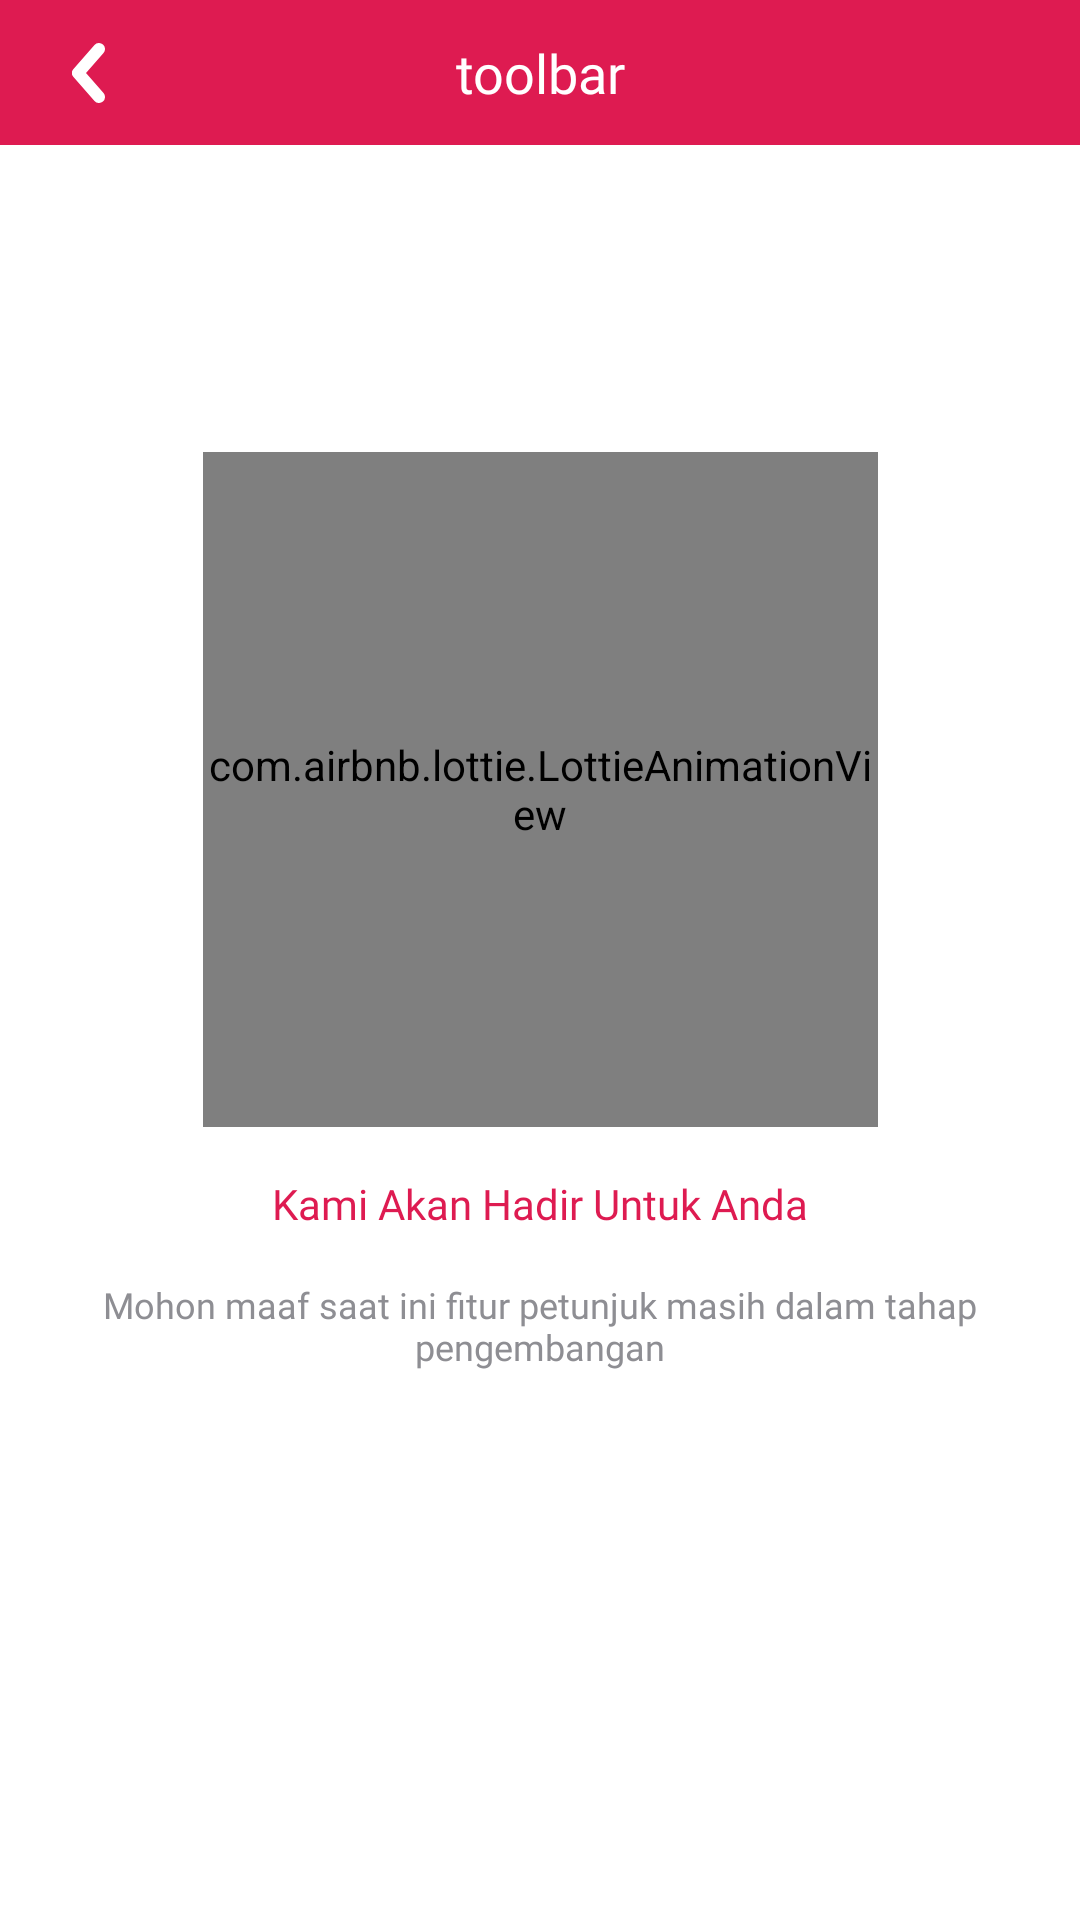

Named icons in this screenshot (1080w x 1920h) and their centers, [x,y]:
arrow: [88,73]
